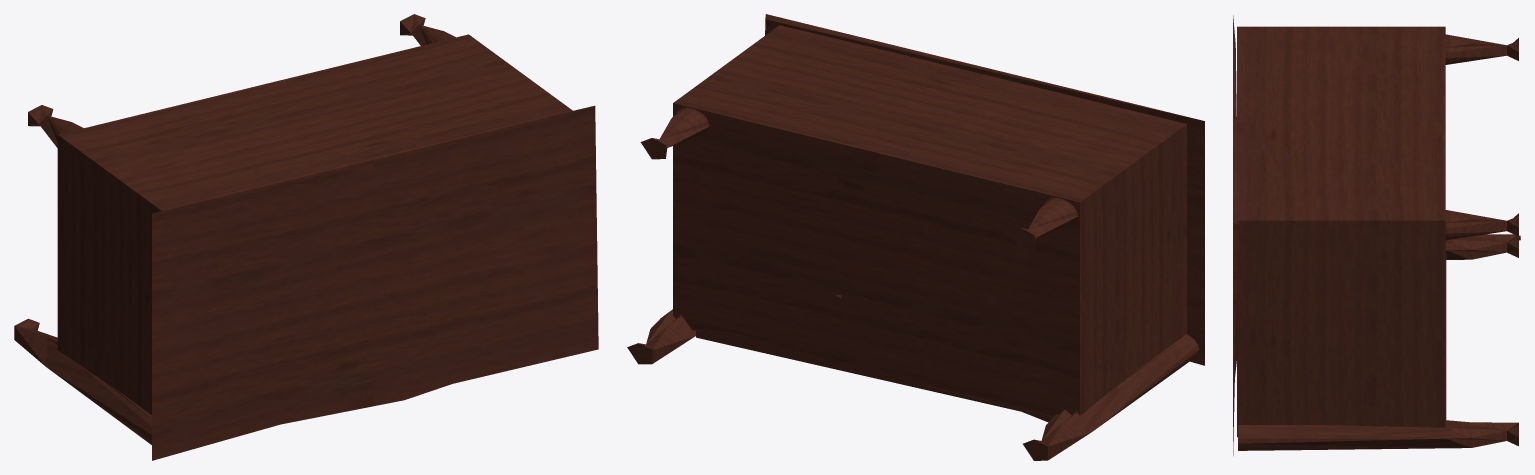
The model's file is commodenightstand2_wtf.obj.
3 views of the same model, side by side, from view 1: azimuth 30°, elevation 25°; view 2: azimuth 150°, elevation 25°; view 3: azimuth 270°, elevation 25° (orthographic). The views are drawn at different scales.
Visible parts, largest first — view 1: group2; view 2: group2; view 3: group2.
Part boxes in pixels (<box>): group2: <box>14,14,598,460</box>; group2: <box>627,14,1204,460</box>; group2: <box>1233,15,1518,455</box>.
Size of the model in its own units: 660 by 350 by 381.
